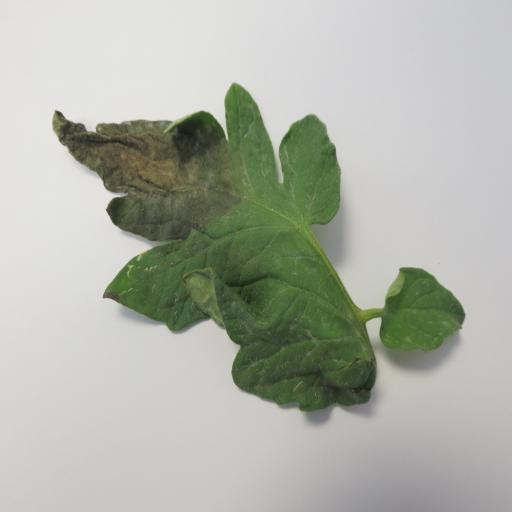disease_tomato: (40, 76, 382, 422)
